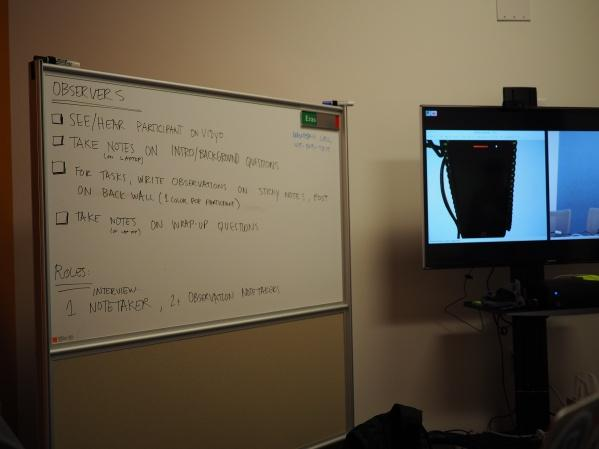AIO PC-Monitor-TV: (417, 103, 598, 271)
Whiteboard: (28, 58, 353, 359)
